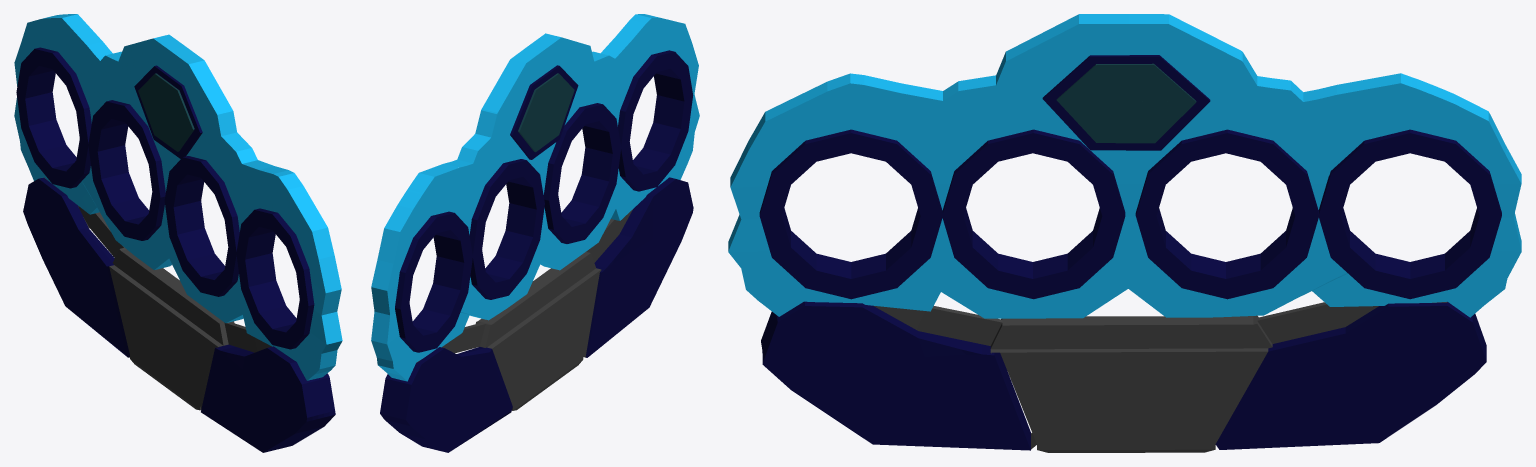
The model's file is sc_fi_melee_weapon_sci_fi_brass_knuckles.glb.
3 renders of one model, left to right at view 1: azimuth 30°, elevation 25°; view 2: azimuth 150°, elevation 25°; view 3: azimuth 270°, elevation 25°, orthographic. The views are drawn at different scales.
Parts seen in each view (by area): view 1: Cylinder.011; view 2: Cylinder.011; view 3: Cylinder.011.
Boxes of the visible parts, box(x1,y1,x2,y2) form: Cylinder.011: box(14, 14, 342, 452); Cylinder.011: box(371, 14, 699, 452); Cylinder.011: box(728, 14, 1521, 452).
Size of the model in its own units: 0.0655 by 0.7063 by 1.19.
